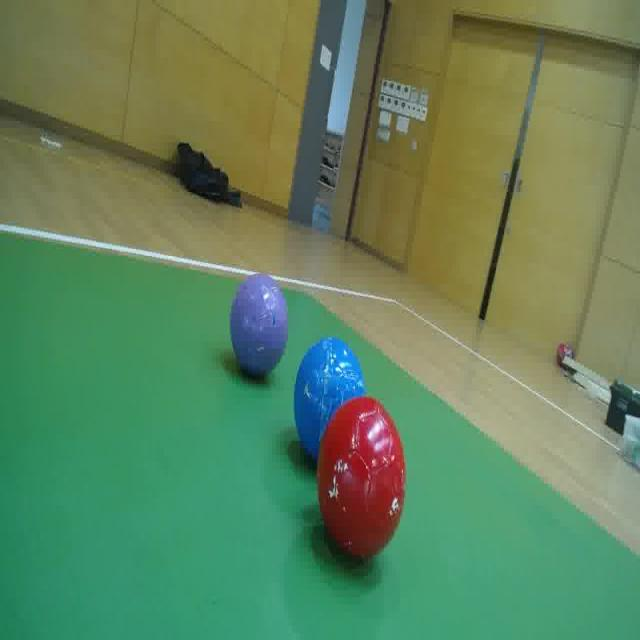blue_ball: (294, 336, 368, 456)
purple_ball: (229, 272, 289, 378)
red_ball: (316, 396, 407, 562)
